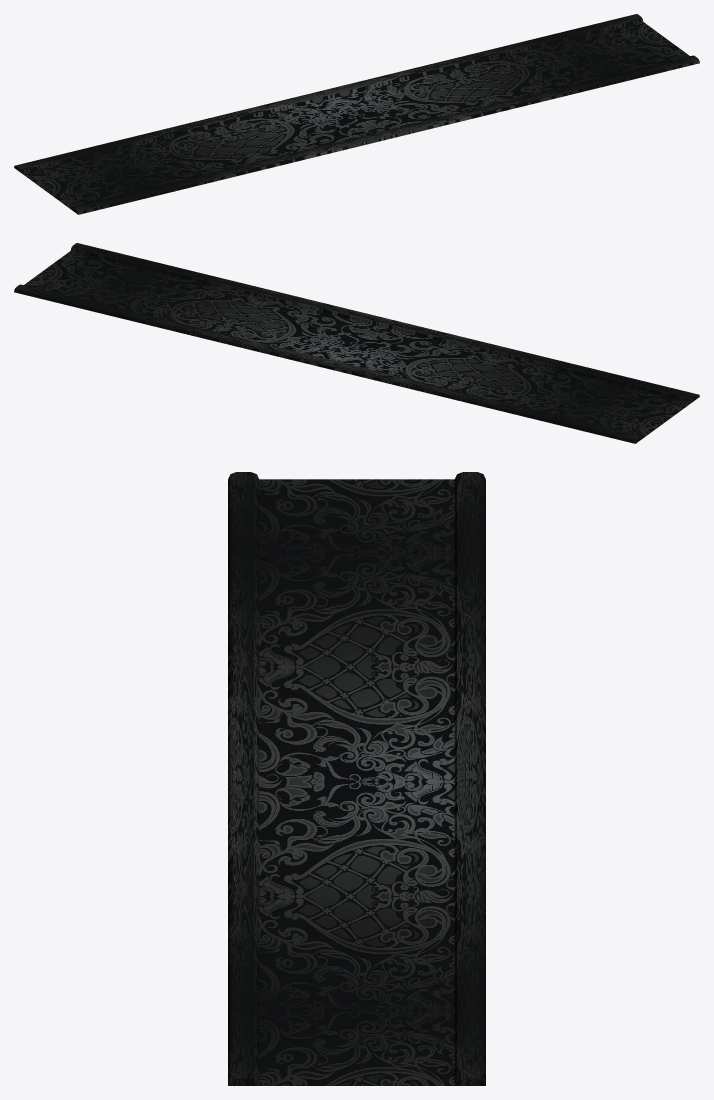
Rendered from hali.fbx.
3 views of the same model, one above another, from view 1: azimuth 30°, elevation 25°; view 2: azimuth 150°, elevation 25°; view 3: azimuth 270°, elevation 25° (orthographic). The views are drawn at different scales.
Parts seen in each view (by area): view 1: pasted__pPlane2; view 2: pasted__pPlane2; view 3: pasted__pPlane2.
Part boxes in pixels (x1,y1,x2,y2): pasted__pPlane2: (14, 14, 699, 214); pasted__pPlane2: (14, 243, 699, 443); pasted__pPlane2: (228, 472, 485, 1085).
Bounding box in the file's own units: 12.03 × 0.0654 × 2.16.
